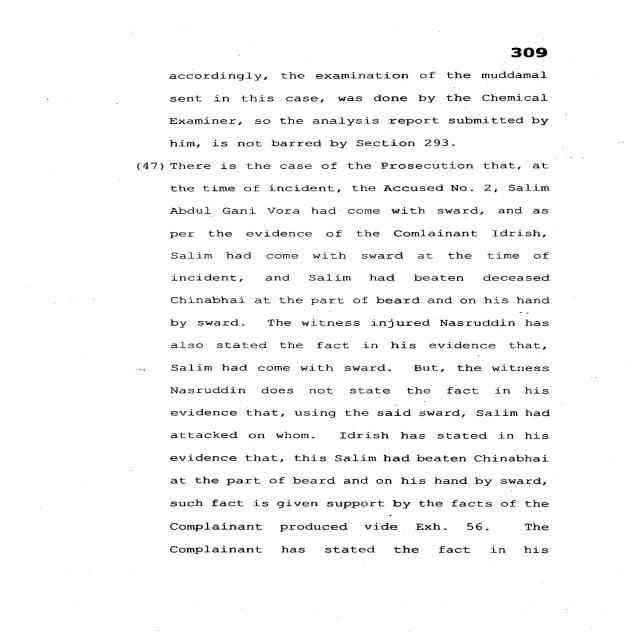page-number: (415, 0, 635, 64)
